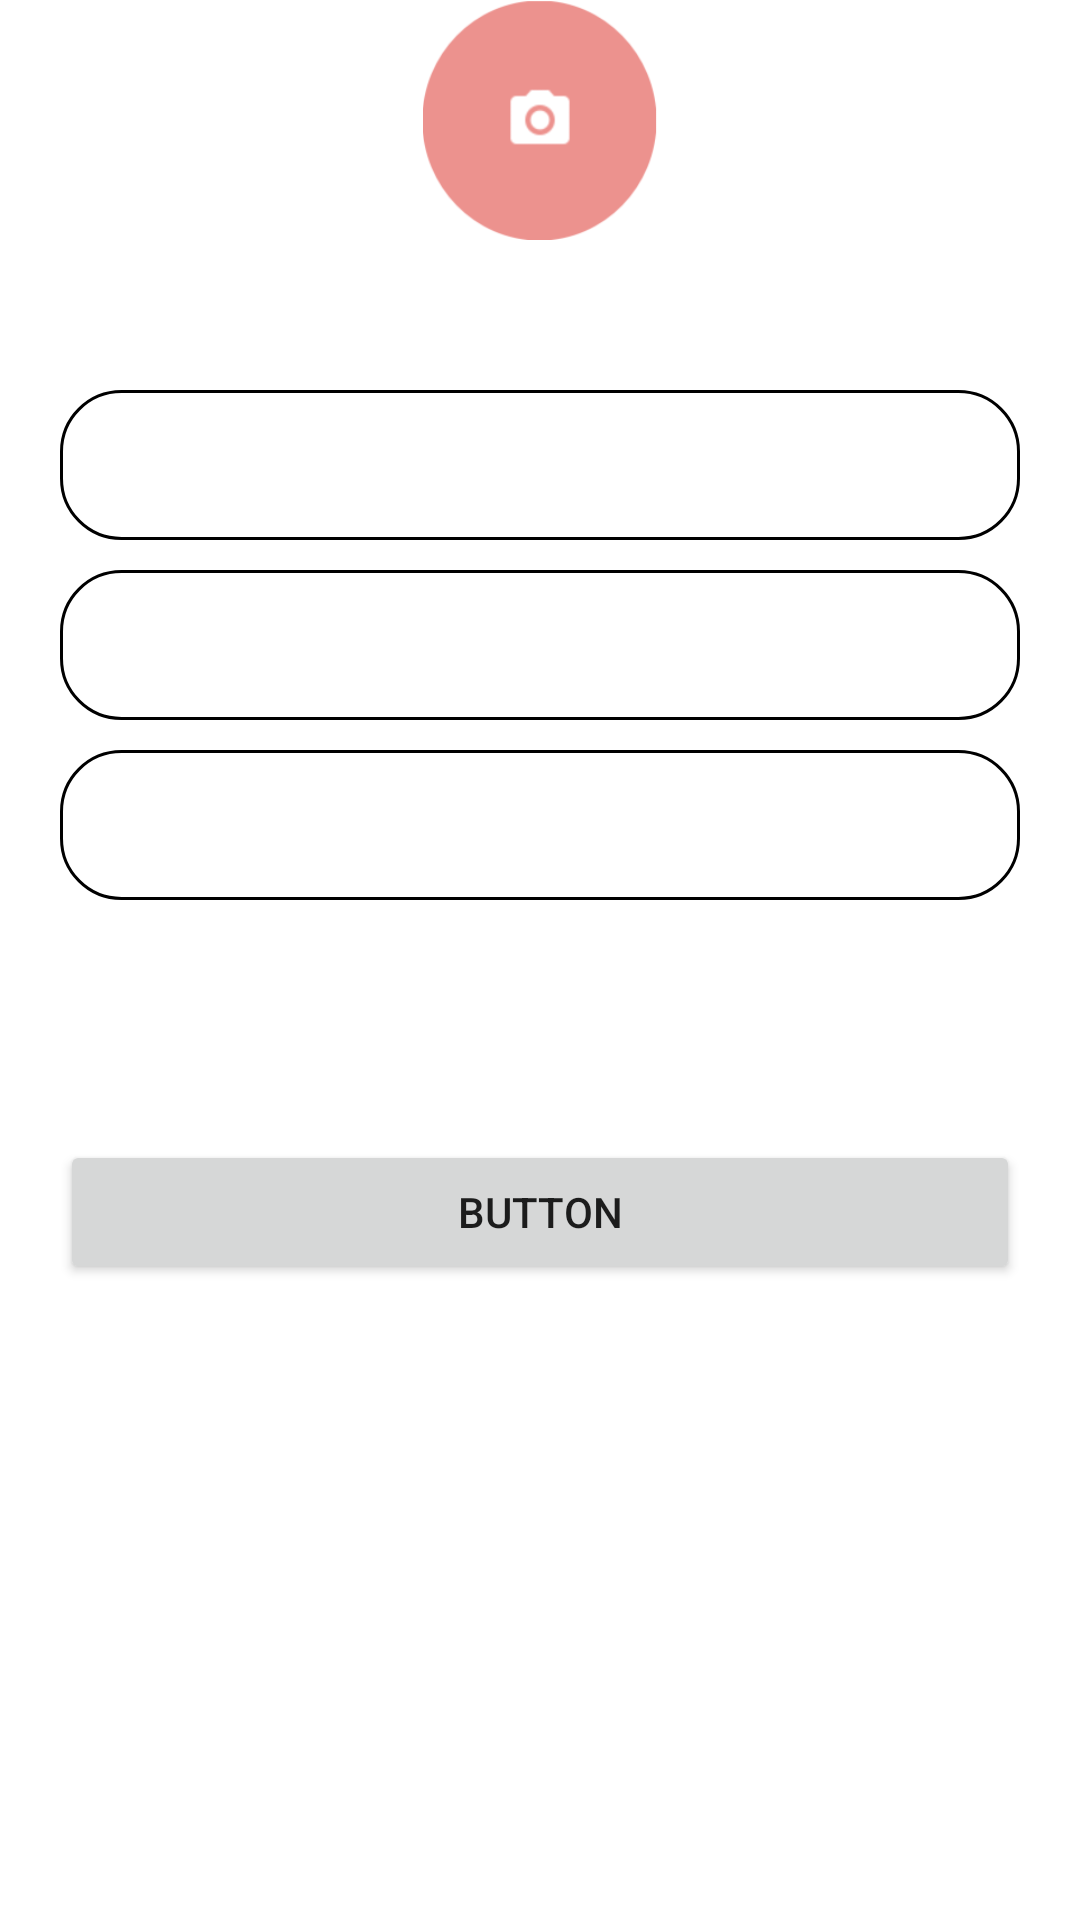

Icons on this 1080x1920 Android screen, each with the point to tap as (x=x, y=y):
profile: (x=539, y=120)
